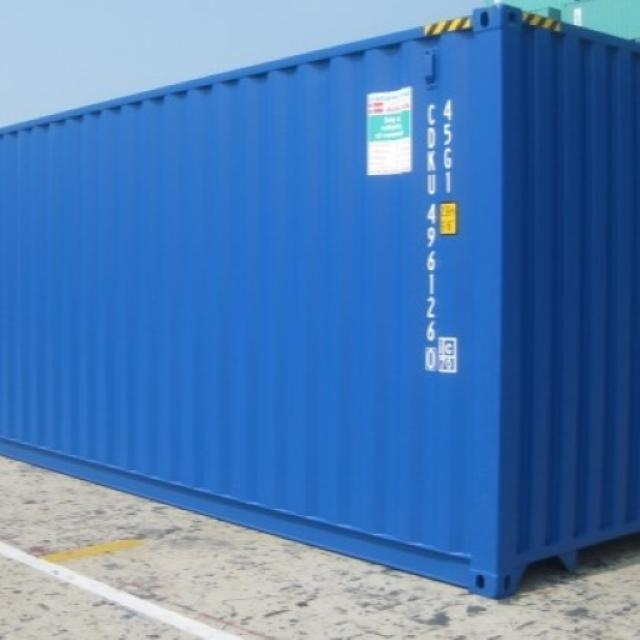ISO: (432, 98, 464, 192)
container_number: (418, 100, 436, 375)
